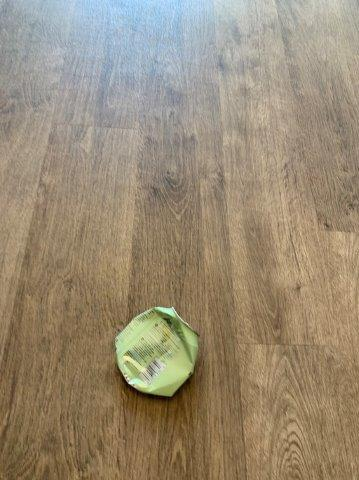kaleng: (115, 308, 196, 396)
